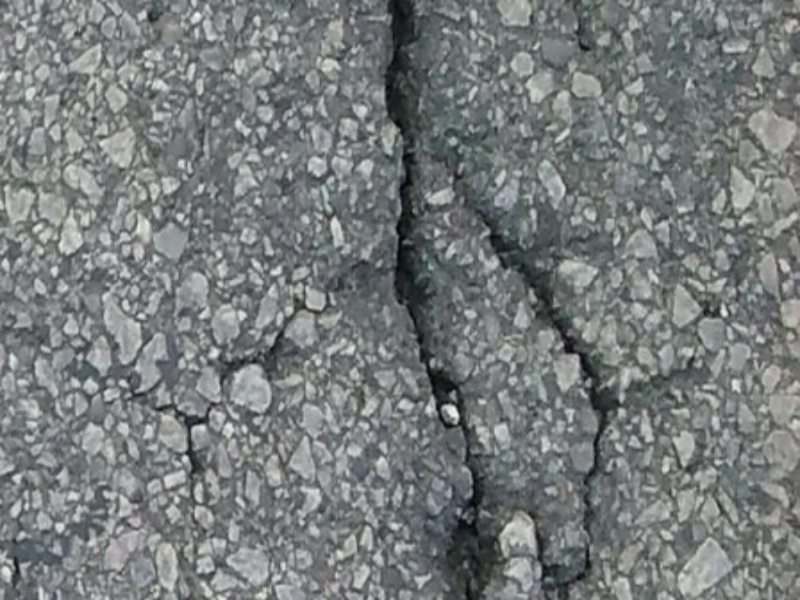crack: (377, 7, 506, 582), (463, 194, 639, 583), (184, 251, 371, 461)
